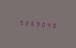five: (17, 18, 22, 26)
four: (47, 20, 52, 29)
nine: (35, 19, 40, 28)
six: (29, 19, 34, 27)
two: (23, 18, 28, 27)
zero: (41, 20, 46, 28), (53, 21, 58, 29)
